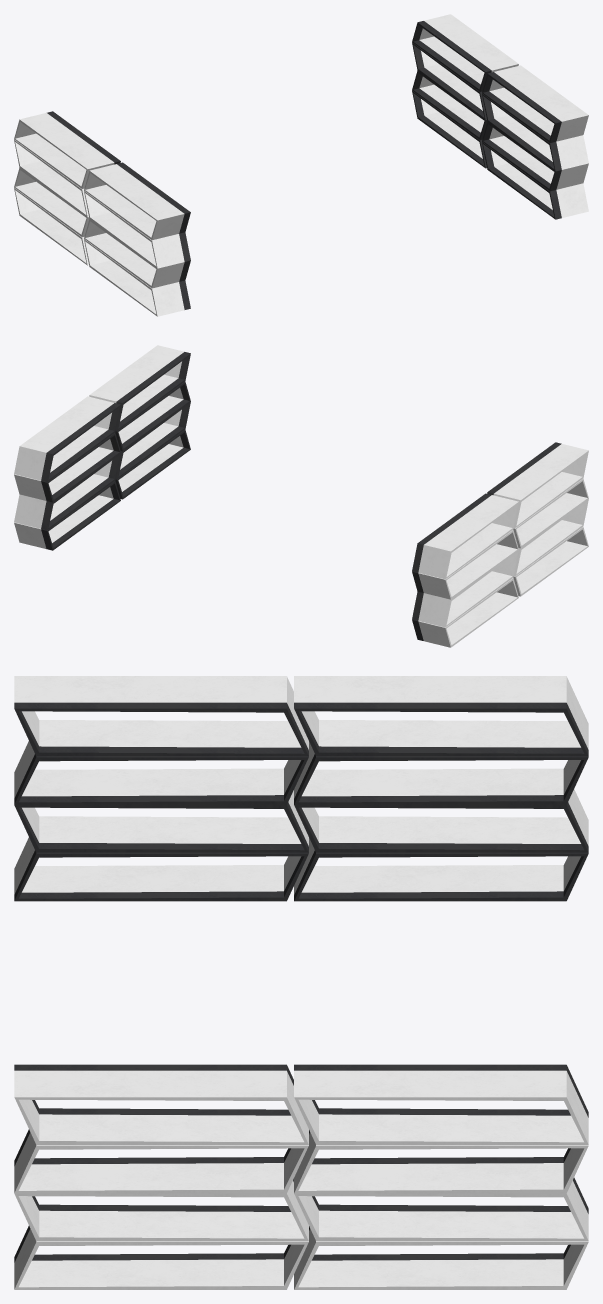
The model's file is estanterias_rep.fbx.
3 renders of one model, top to bottom at view 1: azimuth 30°, elevation 25°; view 2: azimuth 150°, elevation 25°; view 3: azimuth 270°, elevation 25°, orthographic. The views are drawn at different scales.
Parts seen in each view (by area): view 1: Cube.022, Cube.001; view 2: Cube.001, Cube.022; view 3: Cube.022, Cube.001.
Part boxes in pixels (x1,y1,x2,y2): Cube.022: (14,111,190,316); Cube.001: (412,14,588,219); Cube.001: (14,345,190,550); Cube.022: (412,442,588,647); Cube.022: (14,676,588,901); Cube.001: (14,1064,588,1289).
Bounding box in the file's own units: 2887 × 616 × 1665.
